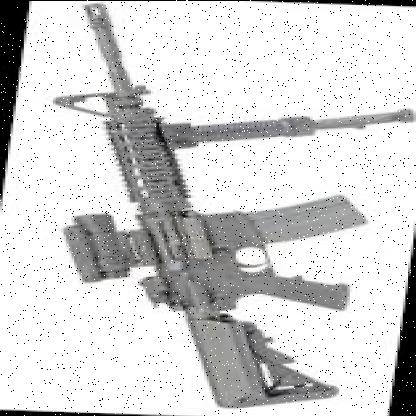rifle: (13, 0, 395, 412)
